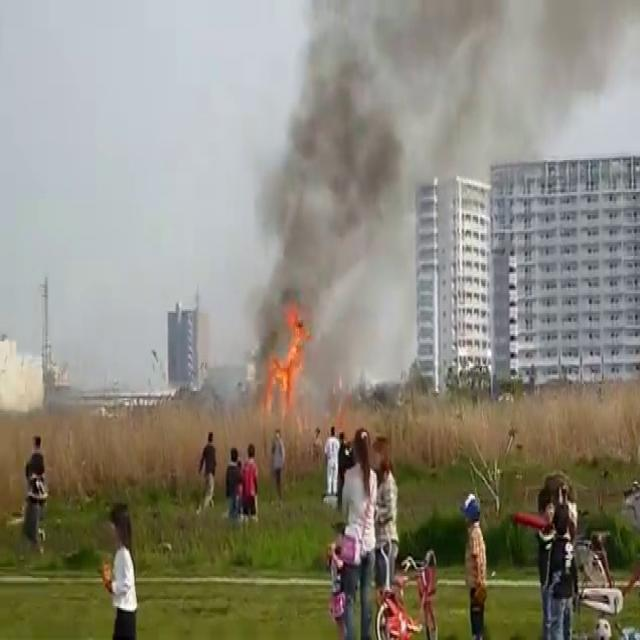Fire: (258, 300, 316, 418)
Smoke: (226, 0, 417, 411), (271, 0, 640, 210)
